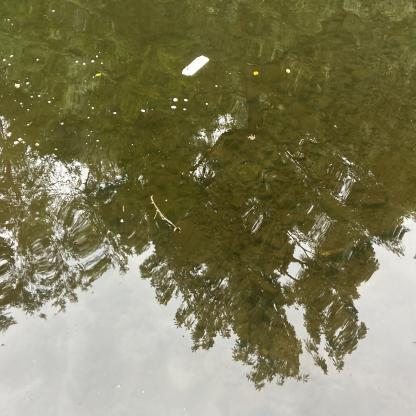trash: (176, 50, 215, 82)
